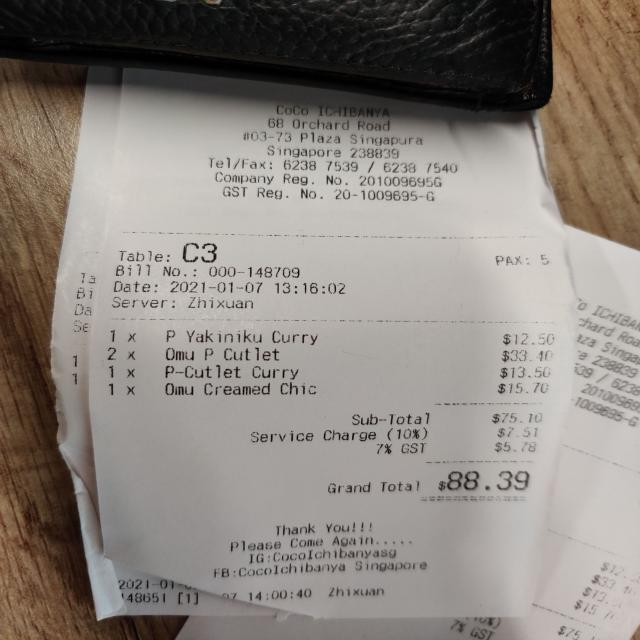bill_region: (90, 317, 568, 508)
